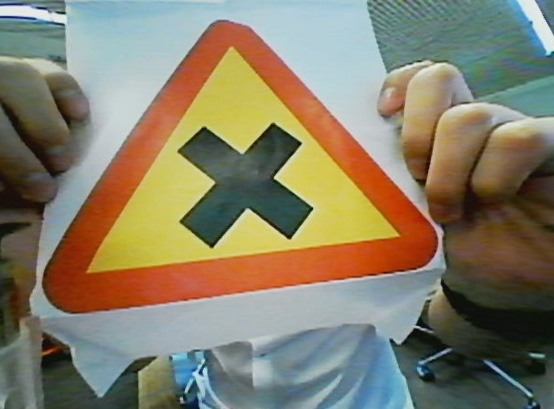junction: (19, 14, 486, 328)
